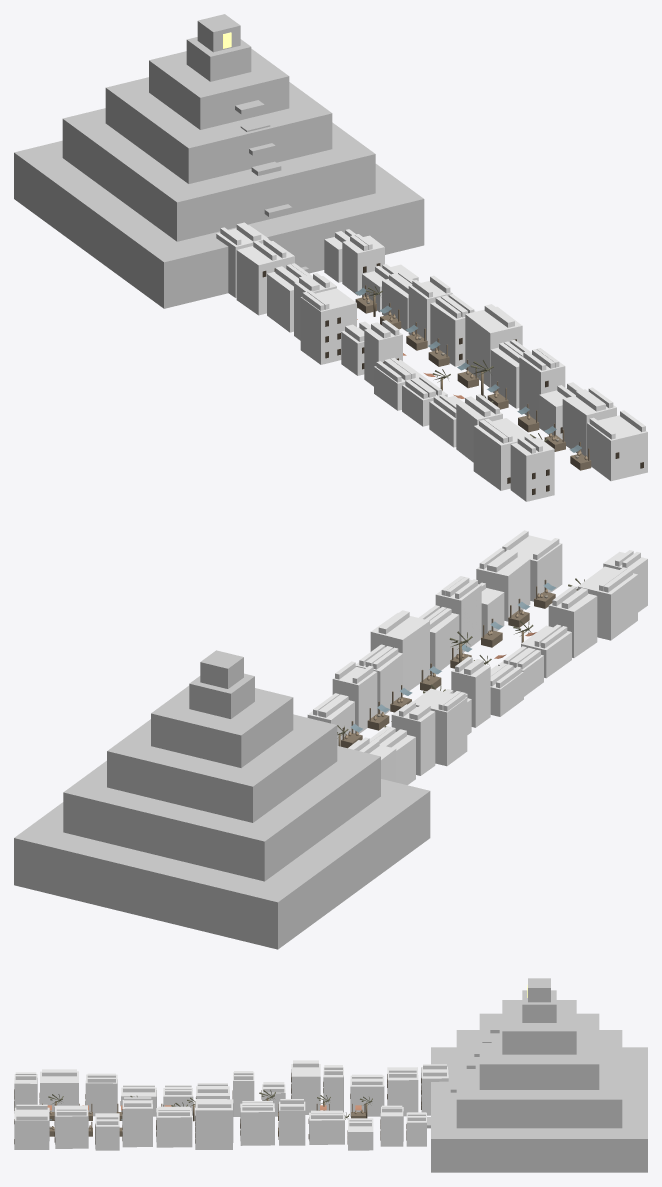
File: national-anthem-ur-market.glb
The picture shows the model from 3 angles, top to bottom: view 1: azimuth 30°, elevation 25°; view 2: azimuth 150°, elevation 25°; view 3: azimuth 270°, elevation 25°; orthographic projection. The views are drawn at different scales.
Parts seen in each view (by area): view 1: Cube.186, Cube.187, Cube.188, Cube.189, Cube.095, Cube.054, Cube.135, Cube, Cube.078, Cube.007, Cube.190, Cube.118 (+18 smaller); view 2: Cube.186, Cube.187, Cube.188, Cube.189, Cube.007, Cube.135, Cube.054, Cube.190, Cube.014, Cube.100, Cube.095, Cube.151 (+14 smaller); view 3: Cube.186, Cube.187, Cube.188, Cube.189, Cube.135, Cube.095, Cube.143, Cube.118, Cube.100, Cube.127, Cube.007, Cube.054 (+17 smaller).
Boxes of the visible parts, bbox=[...] form: Cube.186: bbox=[14, 140, 424, 308]; Cube.187: bbox=[62, 108, 375, 241]; Cube.188: bbox=[105, 77, 332, 183]; Cube.189: bbox=[149, 48, 289, 129]; Cube.095: bbox=[587, 415, 647, 481]; Cube.054: bbox=[300, 288, 356, 364]; Cube.135: bbox=[465, 306, 522, 387]; Cube: bbox=[510, 437, 554, 501]; Cube.078: bbox=[236, 241, 294, 315]; Cube.007: bbox=[473, 418, 533, 490]; Cube.190: bbox=[186, 37, 251, 81]; Cube.118: bbox=[519, 356, 565, 422]; Cube.186: bbox=[14, 779, 430, 949]; Cube.187: bbox=[63, 746, 380, 881]; Cube.188: bbox=[107, 714, 337, 822]; Cube.189: bbox=[151, 685, 293, 767]; Cube.007: bbox=[577, 566, 637, 640]; Cube.135: bbox=[370, 613, 429, 695]; Cube.054: bbox=[413, 688, 467, 766]; Cube.190: bbox=[189, 673, 254, 718]; Cube.014: bbox=[548, 590, 597, 657]; Cube.100: bbox=[476, 556, 530, 621]; Cube.095: bbox=[510, 535, 562, 601]; Cube.151: bbox=[332, 666, 377, 733]; Cube.186: bbox=[431, 1047, 647, 1172]; Cube.187: bbox=[456, 1030, 622, 1128]; Cube.188: bbox=[479, 1013, 599, 1089]; Cube.189: bbox=[502, 1000, 576, 1054]; Cube.135: bbox=[195, 1099, 233, 1149]; Cube.095: bbox=[14, 1107, 49, 1149]; Cube.143: bbox=[240, 1103, 274, 1145]; Cube.118: bbox=[122, 1100, 152, 1147]; Cube.100: bbox=[54, 1105, 88, 1148]; Cube.127: bbox=[156, 1107, 192, 1147]; Cube.007: bbox=[40, 1071, 78, 1111]; Cube.054: bbox=[291, 1064, 320, 1114].
Size of what is drawn, in the model's own units: 38 by 27.8 by 111.
